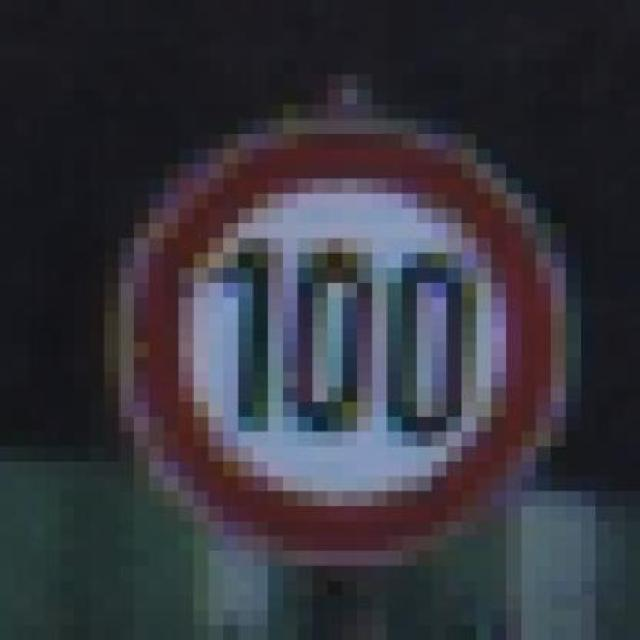forb_speed_over_100: (124, 124, 553, 548)
